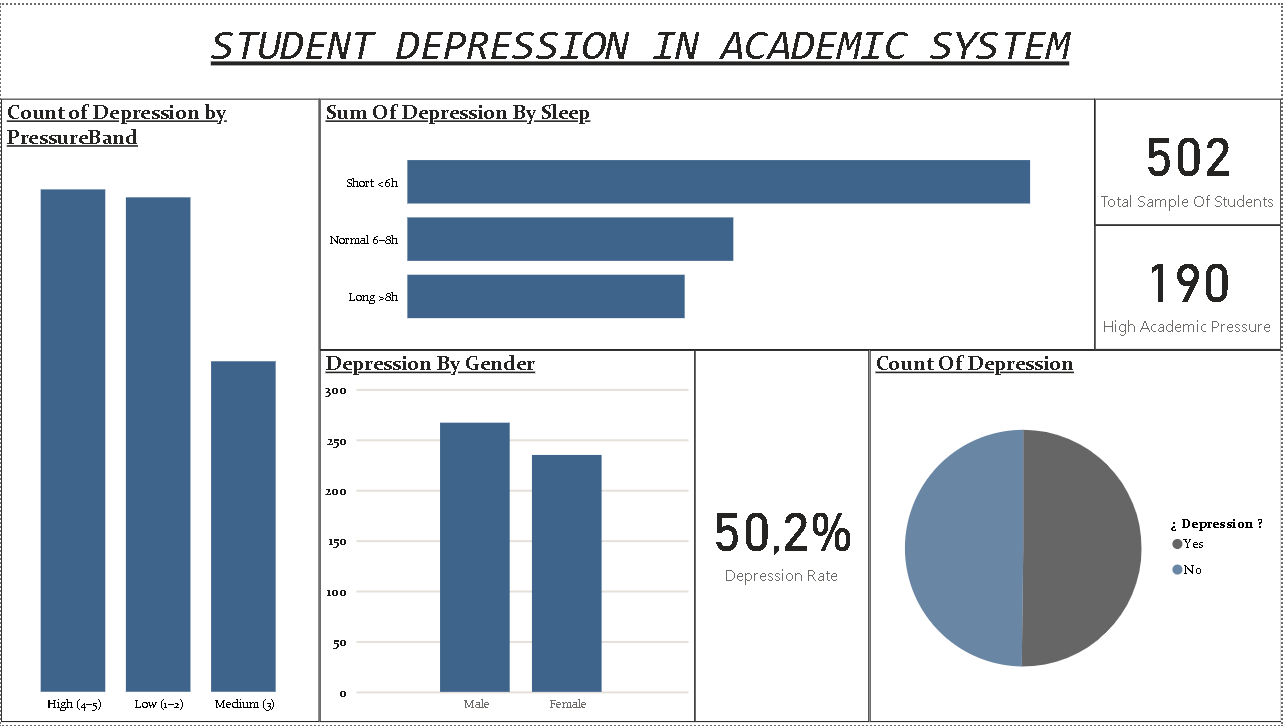

Layout of this report page (visuals, bound fields, positions):
{"tool":"powerbi","page":{"name":"Overview","canvas":[1280,720],"ordinal":0},"visuals":[{"type":"textbox","box":[200.5,9.8,878,73.4],"z":0},{"type":"card","fields":{"Values":["vw_students_bi.Measure"]},"box":[1093.9,94.3,186.1,126.2],"z":1000},{"type":"barChart","title":"Sum Of Depression By Sleep","fields":{"Y":["Sum(vw_students_bi.Depression Num)"],"Category":["vw_students_bi.SleepBand"]},"box":[318.7,94.3,775.1,251.2],"z":2000},{"type":"columnChart","title":"Count of Depression by PressureBand","fields":{"Category":["vw_students_bi.PressureBand"],"Y":["CountNonNull(vw_students_bi.DepressionLabel)"]},"box":[0,94.3,318.7,623.4],"z":3000},{"type":"pieChart","title":"Count Of Depression","fields":{"Category":["vw_students_bi.DepressionLabel"],"Y":["CountNonNull(vw_students_bi.DepressionLabel)"]},"box":[868.2,345.5,411.8,372.3],"z":4000},{"type":"columnChart","title":"Depression By Gender","fields":{"Category":["vw_students_bi.Gender"],"Y":["CountNonNull(vw_students_bi.DepressionLabel)"]},"box":[318.7,345.5,374.8,372.3],"z":5000},{"type":"card","fields":{"Values":["vw_students_bi.High Academic Pressure"]},"box":[1093.9,220.6,186.1,124.9],"z":6000},{"type":"card","fields":{"Values":["vw_students_bi.Depression Rate"]},"box":[693.5,345.5,174.7,372.3],"z":7000}]}

Visuals, with their boxes in screenshot pixels (x1, y1, x2, y2), scaled from the page's 1280x720 canvas onto the 1285x727 screenshot:
textbox: Rect(201, 10, 1083, 84)
card - vw_students_bi.Measure: Rect(1098, 95, 1284, 223)
"Sum Of Depression By Sleep" barChart: Rect(320, 95, 1098, 349)
"Count of Depression by PressureBand" columnChart: Rect(0, 95, 320, 725)
"Count Of Depression" pieChart: Rect(872, 349, 1284, 725)
"Depression By Gender" columnChart: Rect(320, 349, 696, 725)
card - vw_students_bi.High Academic Pressure: Rect(1098, 223, 1284, 349)
card - vw_students_bi.Depression Rate: Rect(696, 349, 872, 725)
